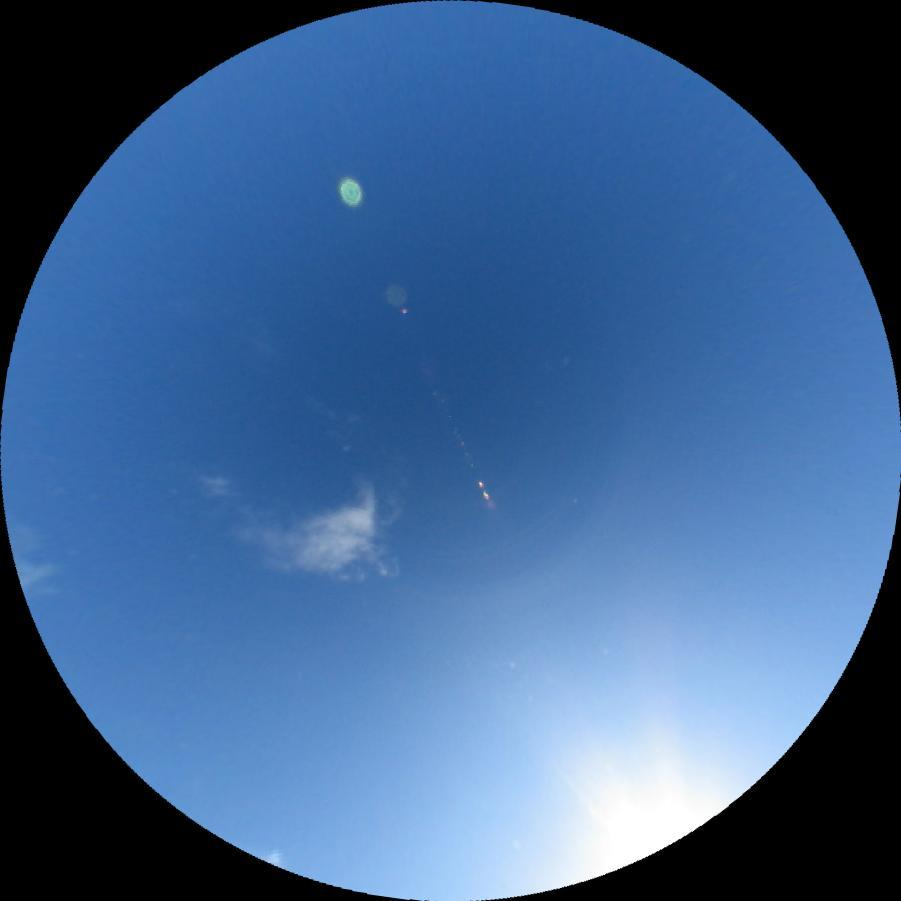sun: (561, 777, 723, 888)
